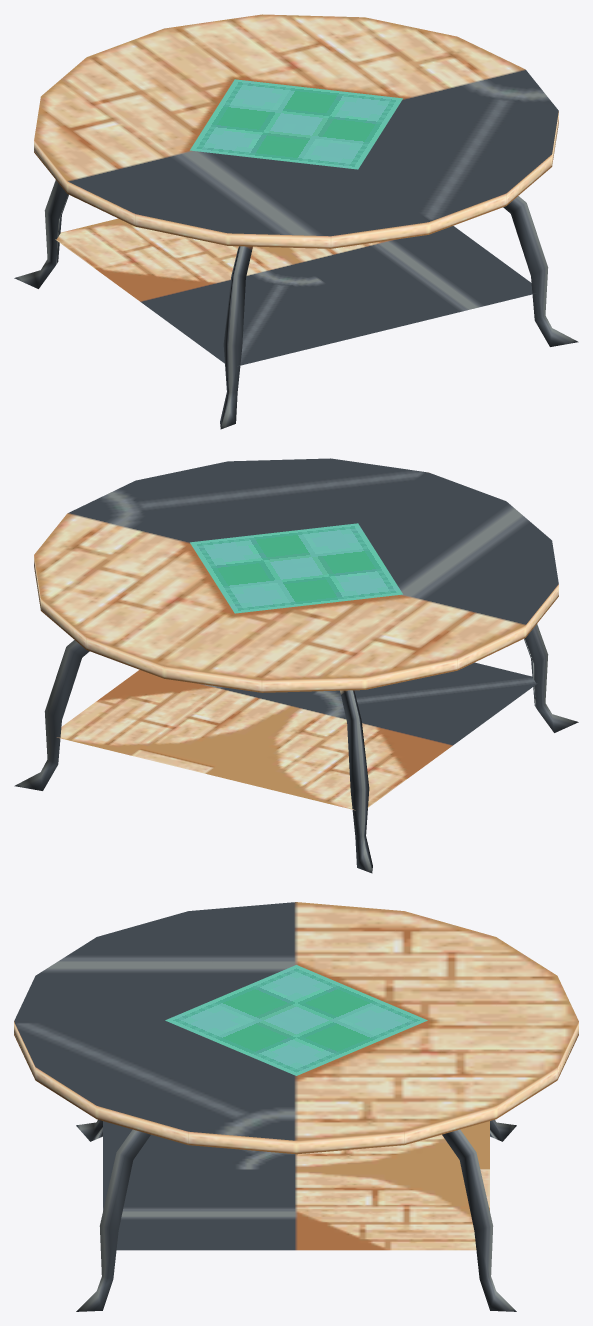
Rendered from rmk_pin_tableL.dae.
3 renders of one model, top to bottom at view 1: azimuth 30°, elevation 25°; view 2: azimuth 150°, elevation 25°; view 3: azimuth 270°, elevation 25°, orthographic. The views are drawn at different scales.
Visible parts, largest first — view 1: rmk_pin_tableL; view 2: rmk_pin_tableL; view 3: rmk_pin_tableL.
Part boxes in pixels (x1,y1,x2,y2): rmk_pin_tableL: (14, 14, 578, 429); rmk_pin_tableL: (14, 458, 578, 873); rmk_pin_tableL: (14, 902, 578, 1311).
Bounding box in the file's own units: 60.75 × 24.11 × 60.75.
Materials: 2 (2 with a texture image).
